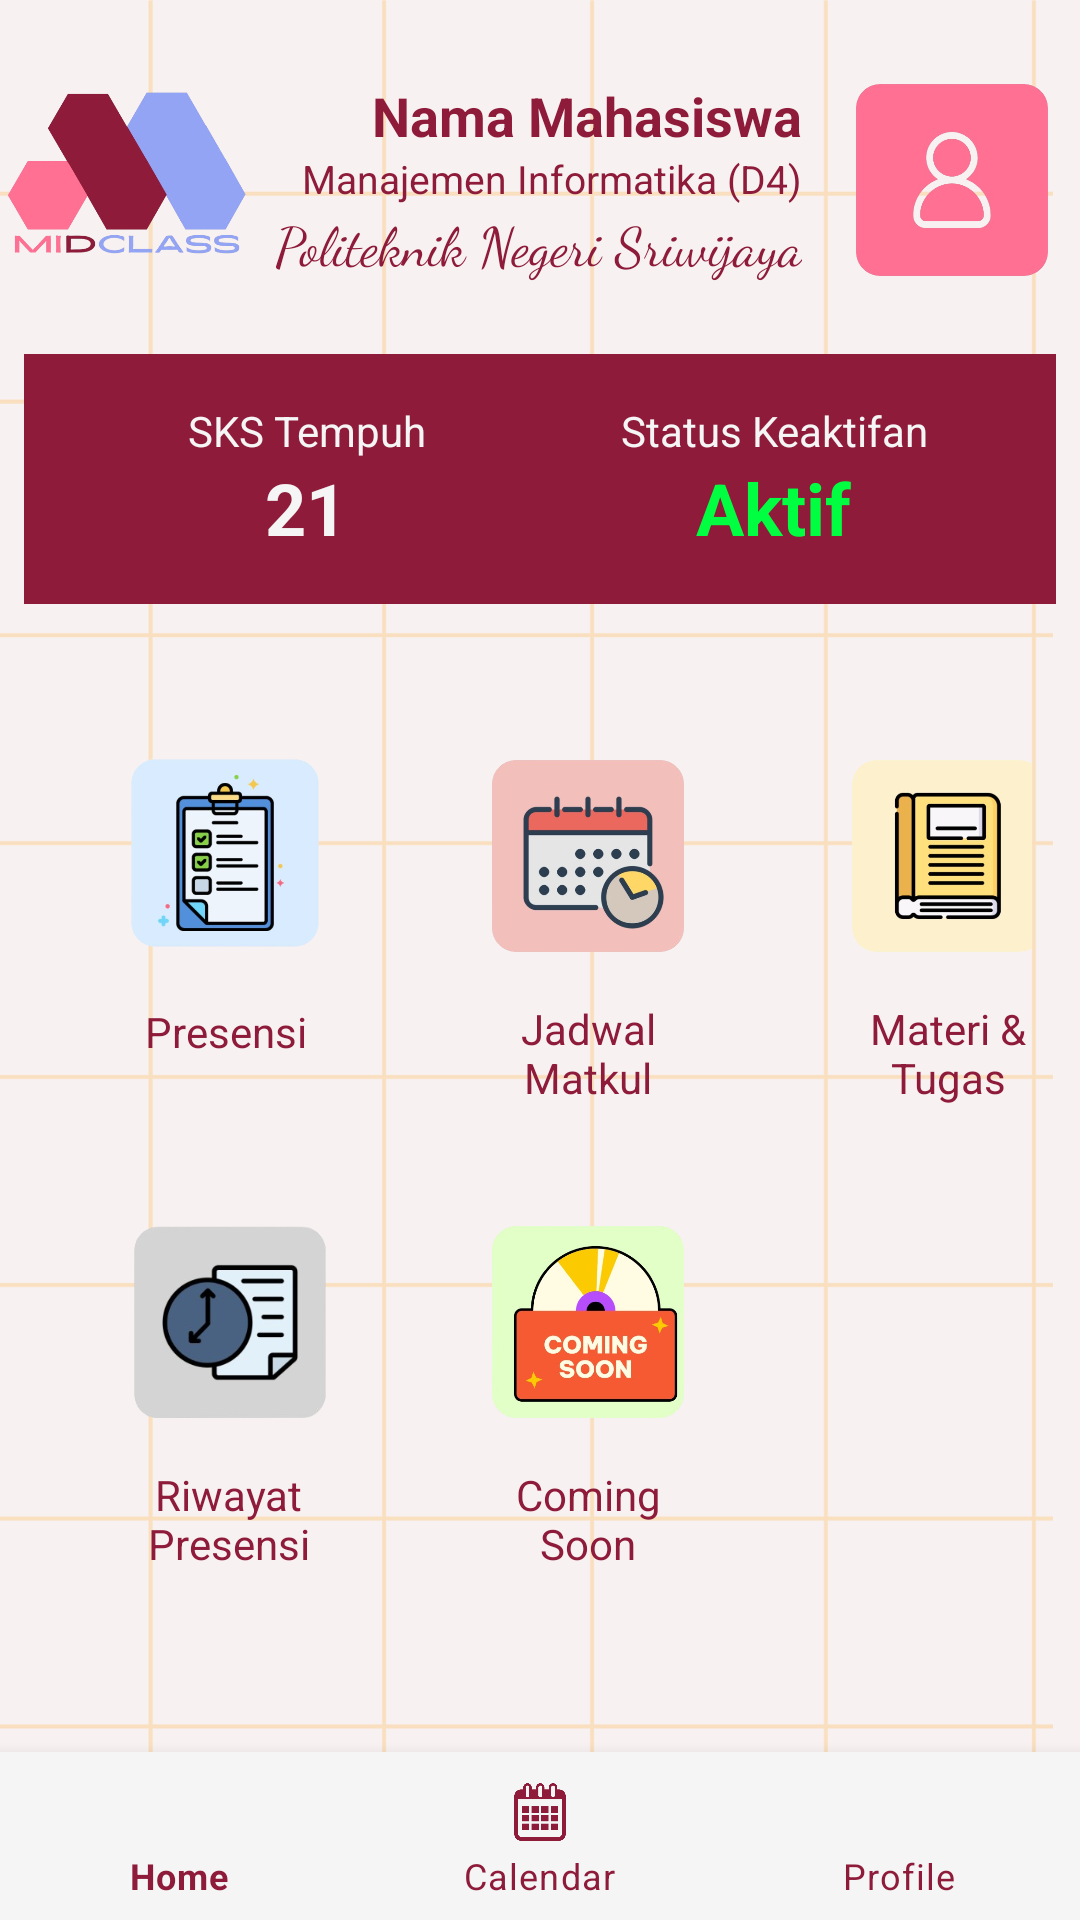

Icons on this 1080 × 1920 Android screen, each with its box as (x1, y1, x2, y2):
Icon Profil: (832, 60, 1053, 300)
